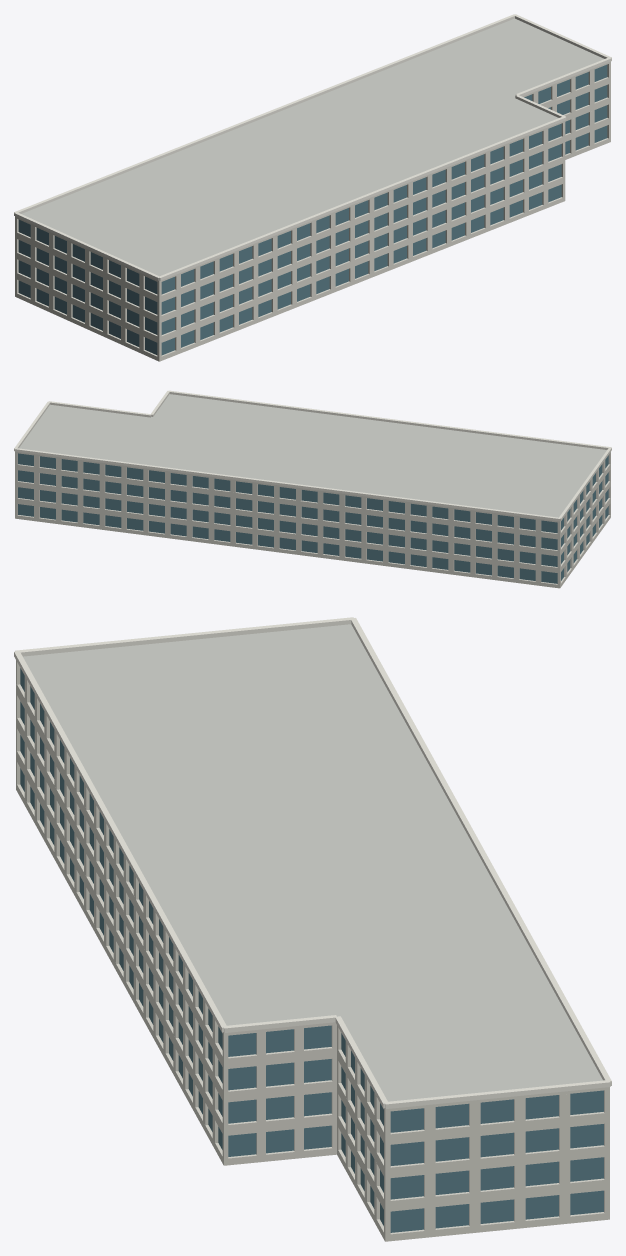
Rendered from sb_586082991.far.glb.
3 views of the same model, one above another, from view 1: azimuth 30°, elevation 25°; view 2: azimuth 150°, elevation 25°; view 3: azimuth 270°, elevation 25° (orthographic). The views are drawn at different scales.
Visible parts, largest first — view 1: roof, wall, glass, trim; view 2: roof, wall, glass, trim; view 3: roof, wall, glass, trim.
Part boxes in pixels (left/top/right/bottom): roof: left=22, top=18, right=603, bottom=276; wall: left=15, top=61, right=610, bottom=361; glass: left=18, top=64, right=607, bottom=355; trim: left=14, top=14, right=611, bottom=280; roof: left=19, top=394, right=606, bottom=517; wall: left=15, top=451, right=610, bottom=588; glass: left=18, top=453, right=608, bottom=583; trim: left=14, top=390, right=611, bottom=521; roof: left=23, top=624, right=602, bottom=1101; wall: left=16, top=660, right=609, bottom=1241; glass: left=20, top=668, right=603, bottom=1232; trim: left=14, top=617, right=611, bottom=1108.
Bounding box in the file's own units: 98.65 × 13.04 × 51.16.
